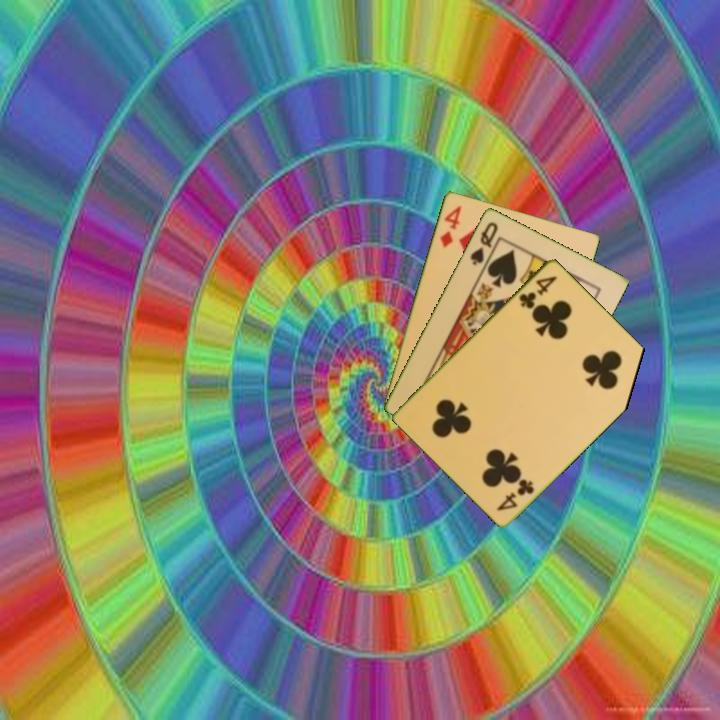4c: (515, 272, 560, 312), (493, 475, 537, 514)
4d: (436, 201, 464, 250)
Qs: (466, 218, 501, 268)
